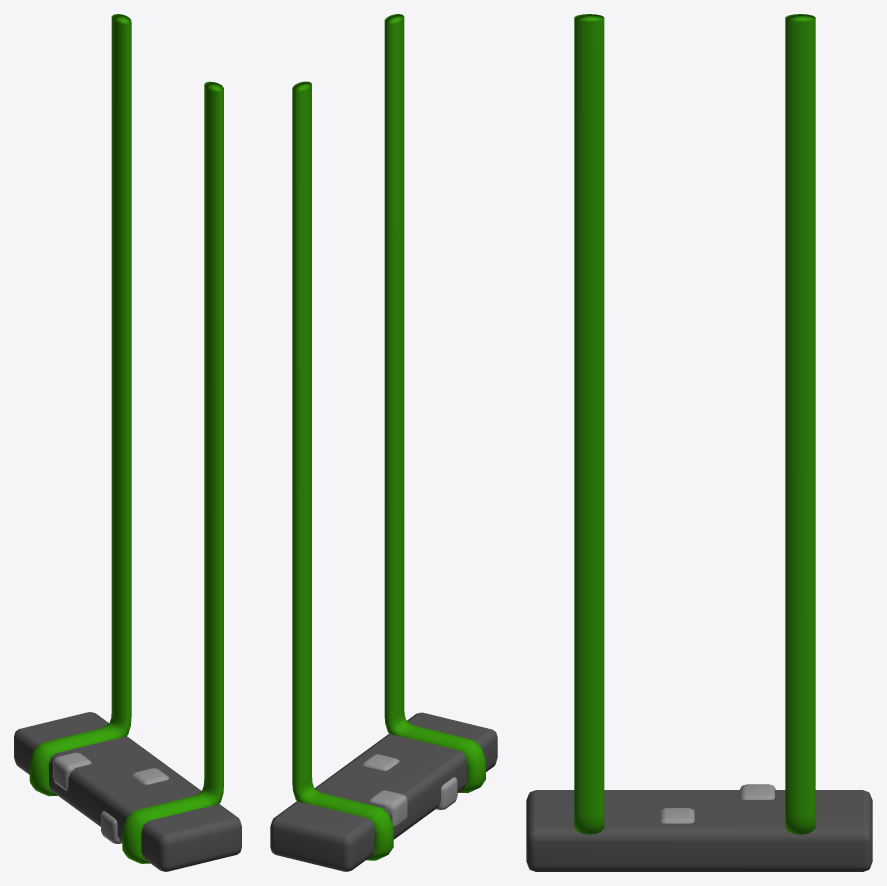
The model's file is PlatformRock.fbx.
The picture shows the model from 3 angles, left to right: view 1: azimuth 30°, elevation 25°; view 2: azimuth 150°, elevation 25°; view 3: azimuth 270°, elevation 25°; orthographic projection. The views are drawn at different scales.
Visible parts, largest first — view 1: pCylinder3, pCube1, pCube2; view 2: pCylinder3, pCube1, pCube2; view 3: pCylinder3, pCube1.
Boxes of the visible parts, x1=… form: pCylinder3: x1=29, y1=14, x2=223, y2=863; pCube1: x1=14, y1=712, x2=241, y2=871; pCube2: x1=53, y1=752, x2=91, y2=790; pCylinder3: x1=292, y1=14, x2=485, y2=860; pCube1: x1=270, y1=712, x2=497, y2=871; pCube2: x1=369, y1=790, x2=407, y2=828; pCylinder3: x1=574, y1=14, x2=815, y2=834; pCube1: x1=526, y1=790, x2=872, y2=871.
Size of the model in its own units: 2.8 by 20.93 by 7.58.
